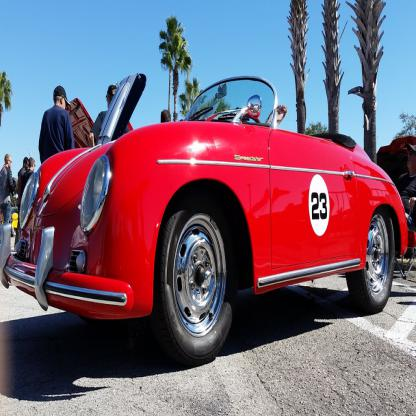Car: (4, 72, 415, 367)
